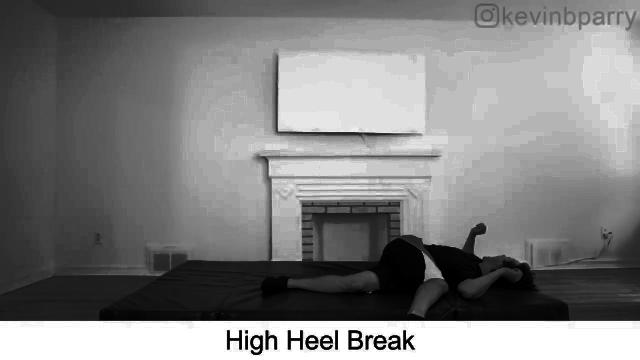jatuh: (252, 212, 550, 318)
